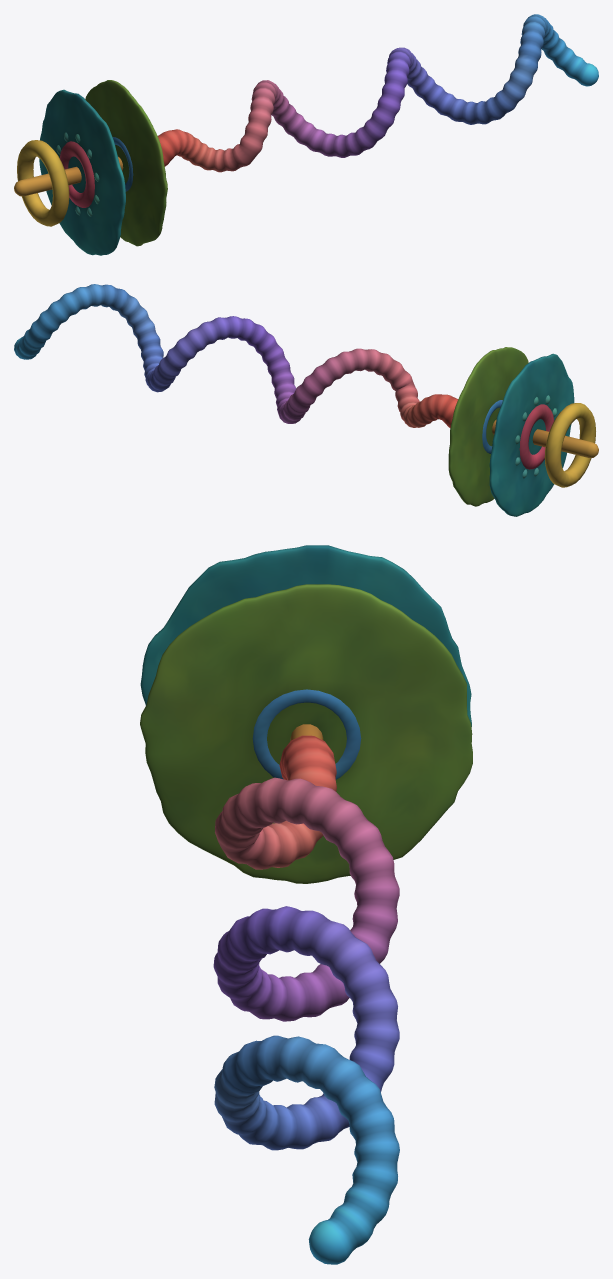
File: flagellum.glb
The picture shows the model from 3 angles, top to bottom: view 1: azimuth 30°, elevation 25°; view 2: azimuth 150°, elevation 25°; view 3: azimuth 270°, elevation 25°; orthographic projection. The views are drawn at different scales.
Parts seen in each view (by area): view 1: flagellum-filament, flagellum-envelope, flagellum-motor; view 2: flagellum-filament, flagellum-envelope, flagellum-motor; view 3: flagellum-envelope, flagellum-filament, flagellum-motor.
Boxes of the visible parts, x1,y1,x2,y2 form: flagellum-filament: [158, 14, 598, 172]; flagellum-envelope: [39, 80, 167, 255]; flagellum-motor: [14, 132, 133, 226]; flagellum-filament: [14, 284, 457, 427]; flagellum-envelope: [448, 347, 574, 516]; flagellum-motor: [482, 395, 598, 487]; flagellum-envelope: [140, 545, 472, 883]; flagellum-filament: [213, 735, 399, 1264]; flagellum-motor: [252, 689, 361, 779].
Size of what is drawn, in the model's own units: 5.67 by 1.4 by 1.42.
